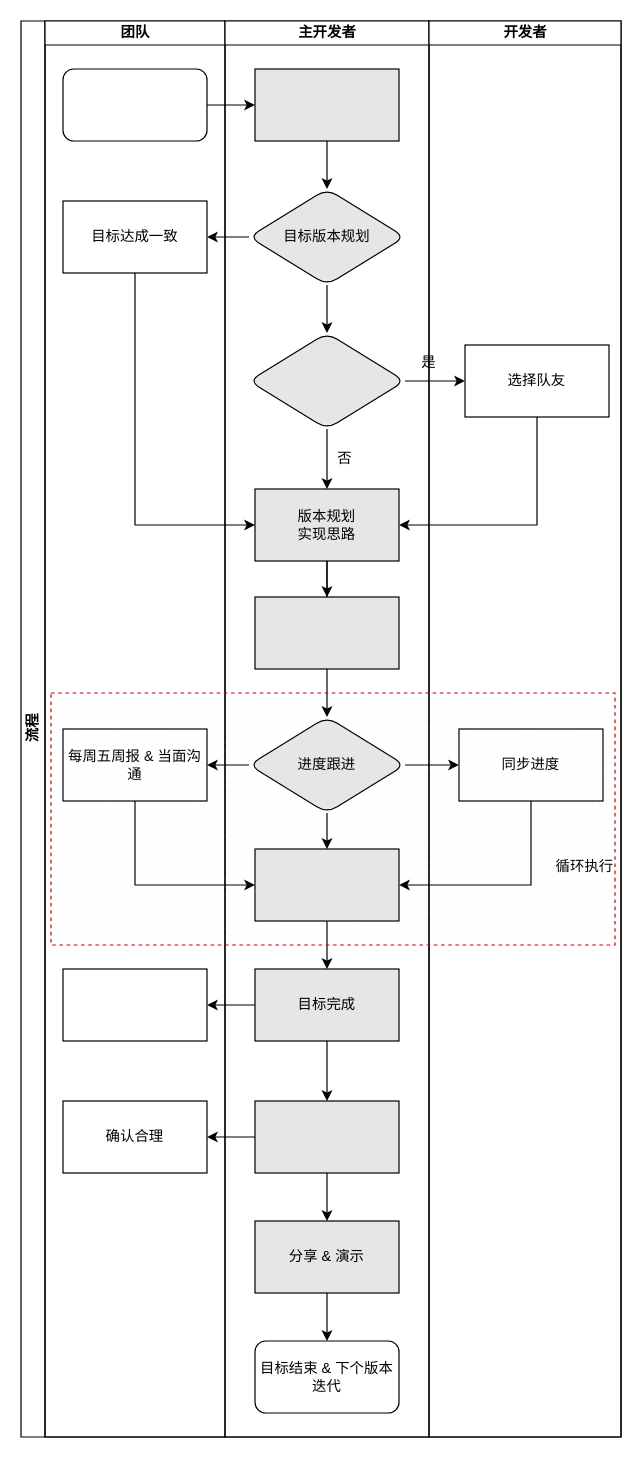
The diagram is 642 pixels wide and 1458 high, and some of its shapes have lost their labels. The centre of each missing label's shape, as x and y in pixels:
任务拆分 & 任务排期: (x=326, y=632)
团队目标: (x=134, y=104)
文档编写 & Demo & 单元测试: (x=326, y=1136)
是否需要队友: (x=326, y=380)
目标选择 & 指派目标: (x=326, y=104)
确认目标: (x=134, y=1004)
进度确认: (x=326, y=884)
